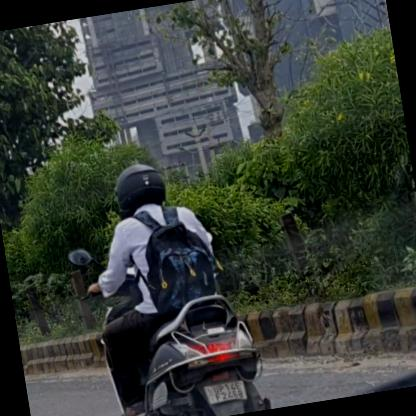motorcycle: (53, 148, 274, 415)
